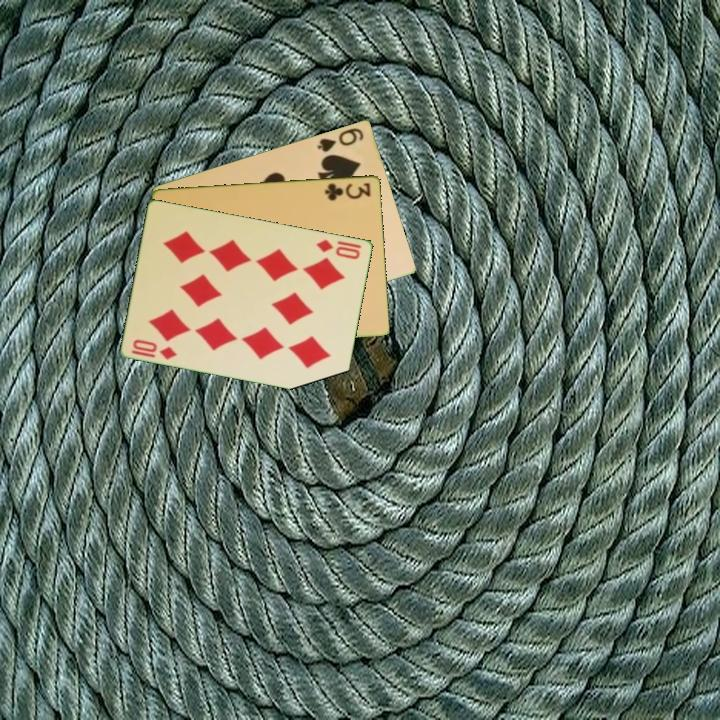10d: (128, 335, 180, 363), (313, 235, 364, 262)
3c: (322, 179, 374, 203)
6s: (314, 124, 367, 155)
